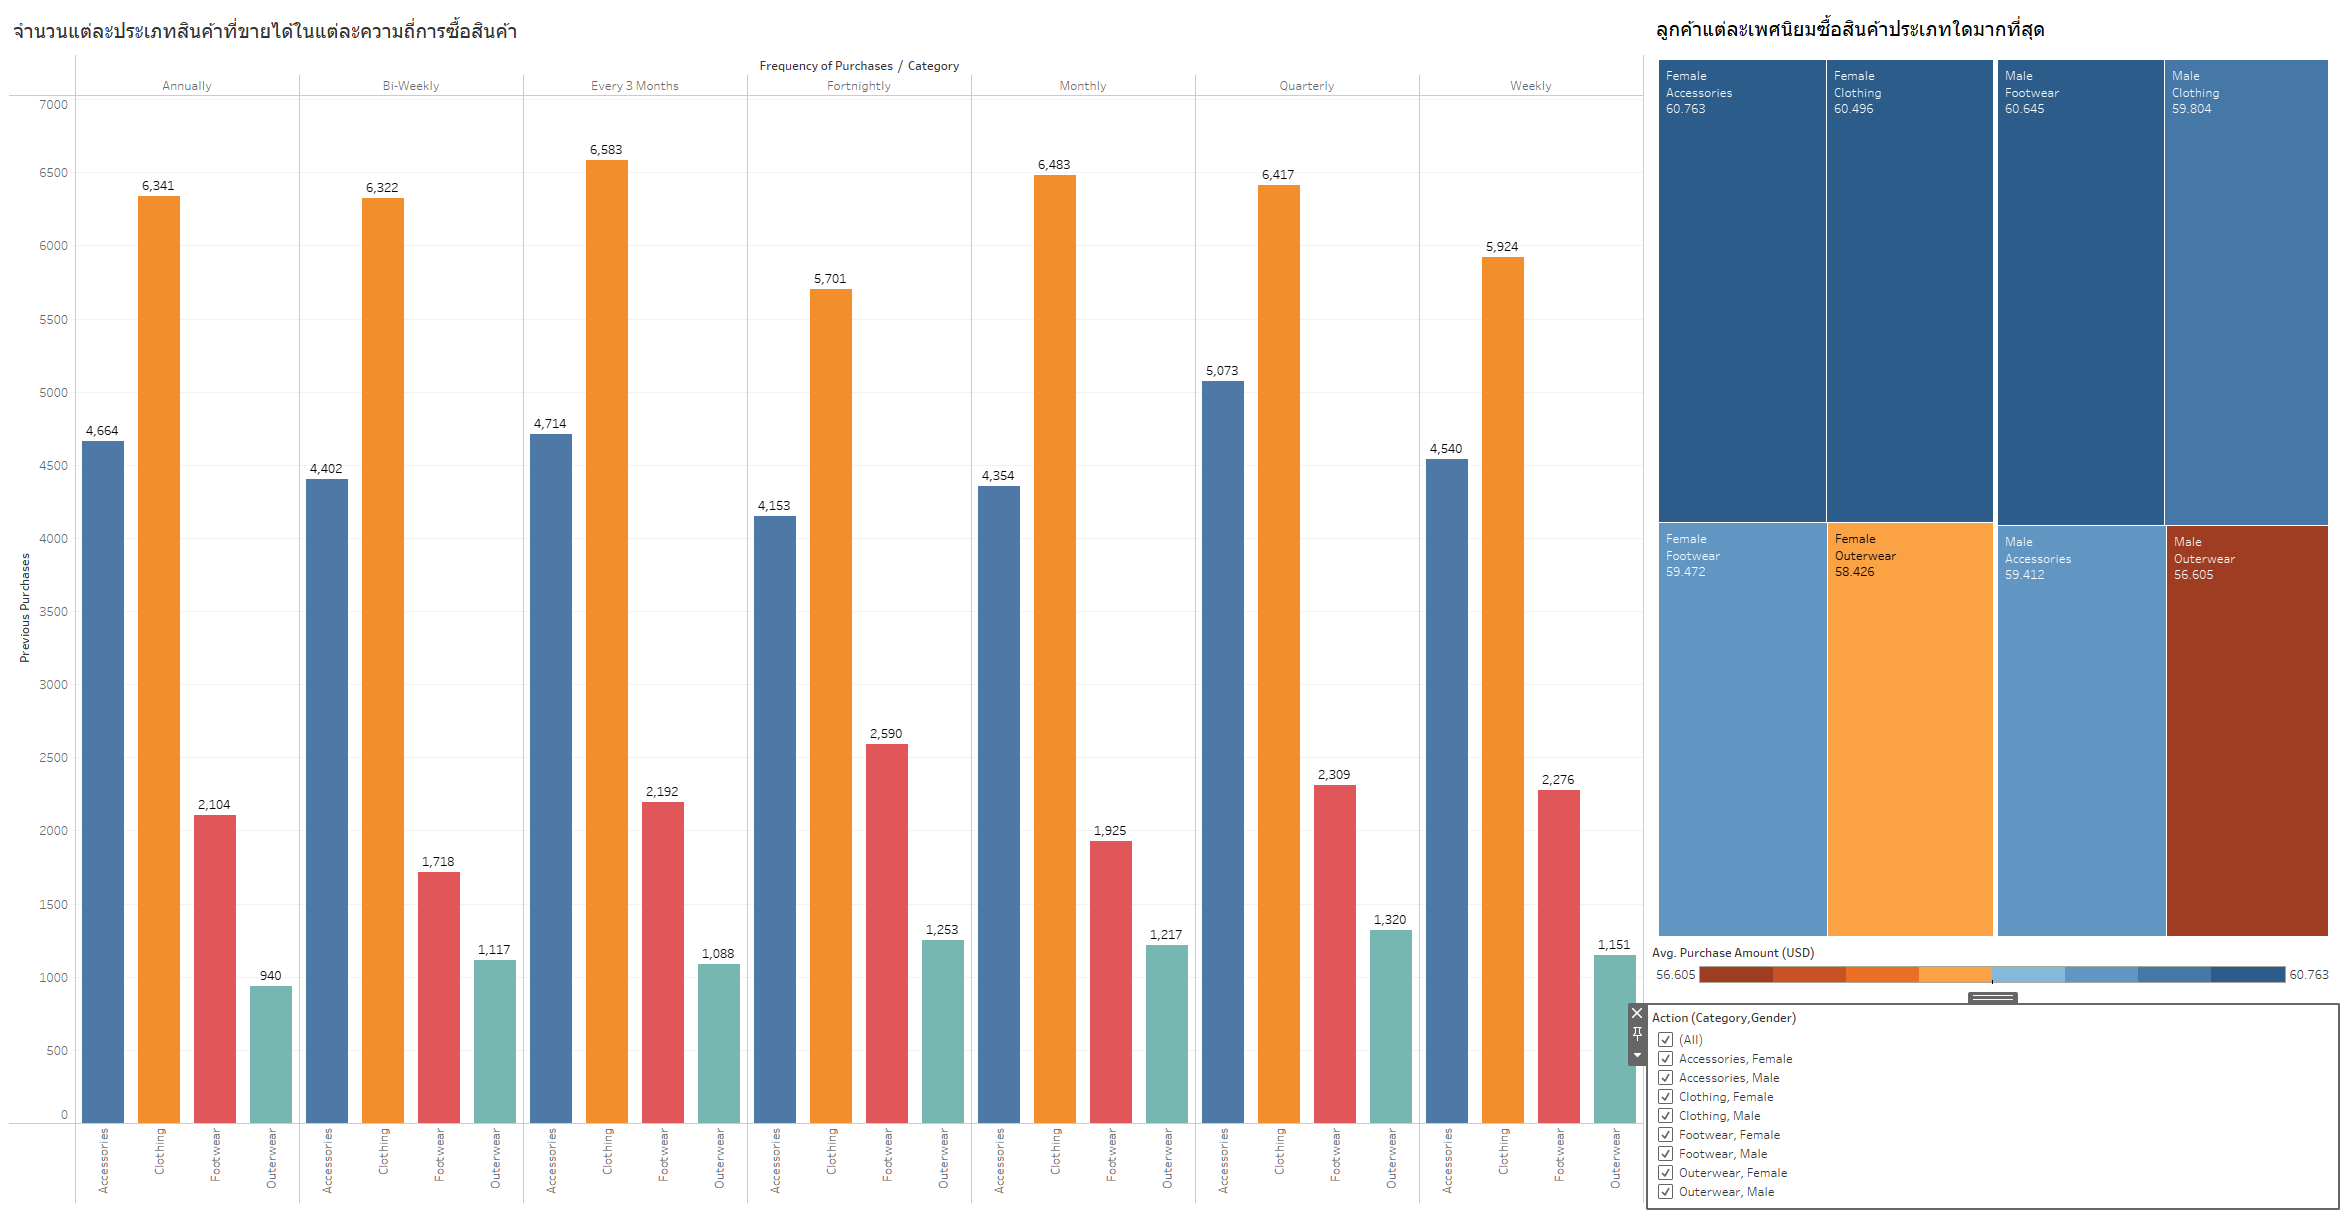

What the dashboard file says about the page in this screenshot:
{"tool":"tableau","page":{"name":"Dashboard 1","canvas":[1000,1000],"units":"permille","ordinal":0},"visuals":[{"type":"worksheet","title":"จำนวนแต่ละประเภทสินค้าที่ขายได้ในแต่ละความถี่การซื้อสินค้า","mark":"Automatic","rows":["Previous Purchases"],"cols":["Frequency of Purchases","Category"],"box":[3.4,6.6,699.4,986.8]},{"type":"worksheet","title":"ลูกค้าแต่ละเพศนิยมซื้อสินค้าประเภทใดมากที่สุด","mark":"Automatic","box":[702.9,6.6,293.7,766.4]},{"type":"legend","title":"ลูกค้าแต่ละเพศนิยมซื้อสินค้าประเภทใดมากที่สุด","param":"[federated.11hsf2v1nlk38x16g2n620yzph1f].[avg:Purchase Amount (USD):qk]","box":[702.9,773,293.7,53.5]},{"type":"filter","title":"จำนวนแต่ละประเภทสินค้าที่ขายได้ในแต่ละความถี่การซื้อสินค้า","param":"[federated.11hsf2v1nlk38x16g2n620yzph1f].[Action (Category,Gender)]","box":[702.9,826.5,293.7,166.9]}]}

Visuals, with their boxes on the dashboard's canvas, which has no fixed pixel size, in thousandths of its width and height (x1, y1, x2, y2). These are canvas units, not pixel positions in the 2342x1210 screenshot, which may show the page scaled, cropped or inside an application window:
"จำนวนแต่ละประเภทสินค้าที่ขายได้ในแต่ละความถี่การซื้อสินค้า" worksheet: locate(3, 7, 703, 993)
"ลูกค้าแต่ละเพศนิยมซื้อสินค้าประเภทใดมากที่สุด" worksheet: locate(703, 7, 997, 773)
"ลูกค้าแต่ละเพศนิยมซื้อสินค้าประเภทใดมากที่สุด" legend: locate(703, 773, 997, 826)
"จำนวนแต่ละประเภทสินค้าที่ขายได้ในแต่ละความถี่การซื้อสินค้า" filter: locate(703, 826, 997, 993)
